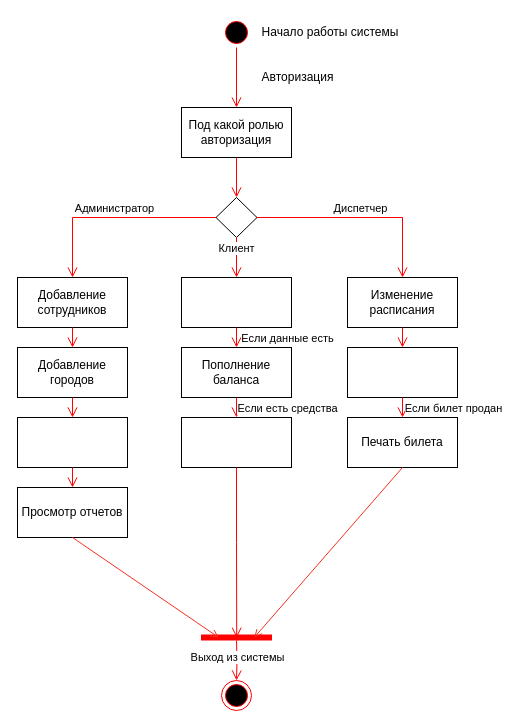
This 520x728 diagram has some shape labels left out. The centre of each missing label's shape, as x and y in pixels:
"Добавление рейсов" belongs at pixel 72 442.
"Изменение персональных данных" belongs at pixel 236 302.
"Покупка билетов" belongs at pixel 236 442.
"Продажа билета" belongs at pixel 402 372.
